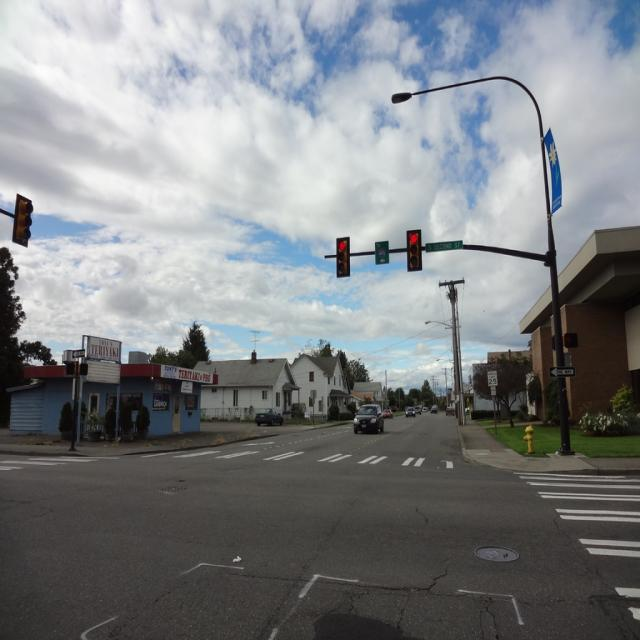traffic light: (336, 238, 349, 276), (408, 232, 420, 270)
